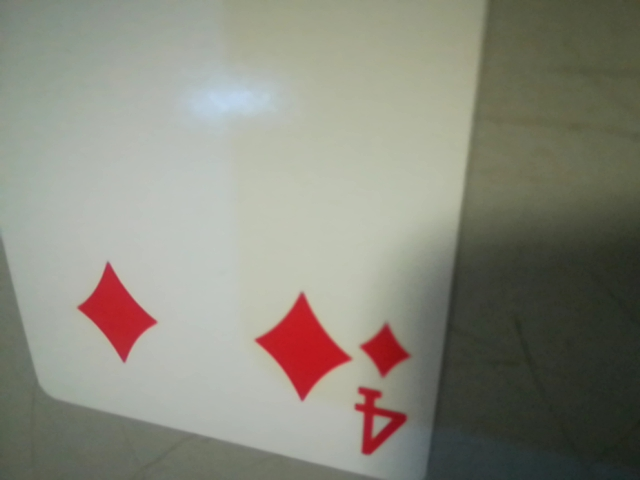fk 4: (341, 313, 422, 477)
